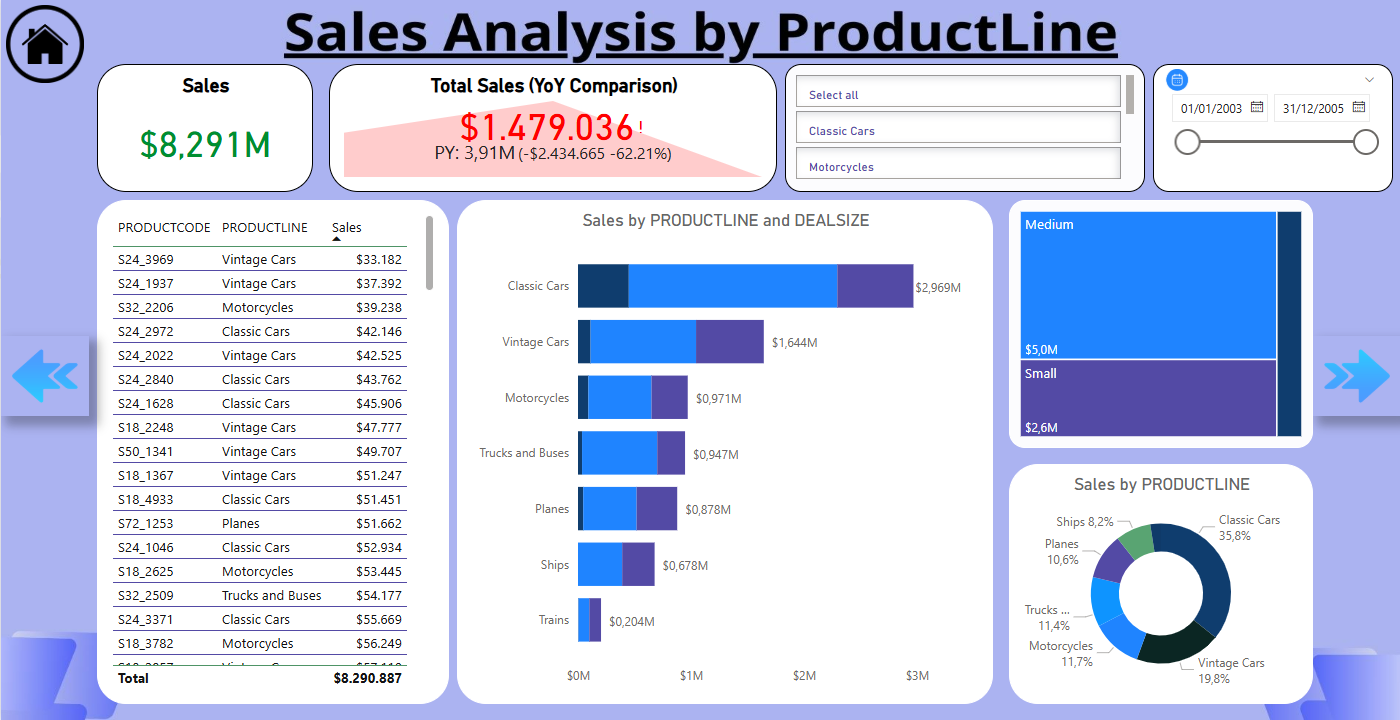

What the dashboard file says about the page in this screenshot:
{"tool":"powerbi","page":{"name":"Sales Analysis by ProductLline","canvas":[1400,720],"ordinal":2},"visuals":[{"type":"barChart","title":"Sales by PRODUCTLINE and DEALSIZE","fields":{"Category":["Dim_Product.PRODUCTLINE"],"Series":["Dim_DealSize.DEALSIZE"],"Y":["Measure.002 $ Total_Ventas"]},"box":[456,200,536,504],"z":0},{"type":"donutChart","title":"Sales by PRODUCTLINE","fields":{"Y":["Measure.002 $ Total_Ventas"],"Category":["Dim_Product.PRODUCTLINE"]},"box":[1008,464,304,240],"z":1000},{"type":"tableEx","fields":{"Values":["Dim_Product.Código de producto","Dim_Product.Línea de producto","Measure.002 $ Total_Ventas"]},"box":[96,200,352,504],"z":2000},{"type":"advancedSlicerVisual","fields":{"Values":["Dim_Product.Línea de producto"]},"box":[784,64,360,128],"z":3000},{"type":"cardVisual","title":"Sales","fields":{"Data":["Measure.002 $ Total_Ventas"]},"box":[96,64,216,128],"z":4000},{"type":"image","box":[1312,336,88,80],"z":5000},{"type":"image","box":[0,336,88,80],"z":6000},{"type":"slicer","fields":{"Values":["Dim_Calendar.Date"]},"box":[1152,64,240,128],"z":7000},{"type":"image","box":[0,0,88,88],"z":8000},{"type":"image","box":[1152,64,48,32],"z":9000},{"type":"kpi","title":"Total Sales (YoY Comparison)","fields":{"Indicator":["Measure.002 $ Total_Sales"],"Goal":["Measure.022 $ Total_Sales_PY"],"TrendLine":["Dim_Calendar.Year"]},"box":[328,64,448,128],"z":10000},{"type":"treemap","title":"Sales by DEALSIZE","fields":{"Group":["Dim_DealSize.DEALSIZE"],"Values":["Measure.002 $ Total_Sales"]},"box":[1008,200,304,248],"z":11000}]}

Visuals, with their boxes in screenshot pixels (x1, y1, x2, y2), scaled from the page's 1400x720 canvas onto the 1400x720 screenshot:
"Sales by PRODUCTLINE and DEALSIZE" barChart: (x1=456, y1=200, x2=992, y2=704)
"Sales by PRODUCTLINE" donutChart: (x1=1008, y1=464, x2=1312, y2=704)
tableEx - Dim_Product.Código de producto x Dim_Product.Línea de producto: (x1=96, y1=200, x2=448, y2=704)
advancedSlicerVisual - Dim_Product.Línea de producto: (x1=784, y1=64, x2=1144, y2=192)
"Sales" cardVisual: (x1=96, y1=64, x2=312, y2=192)
image: (x1=1312, y1=336, x2=1399, y2=416)
image: (x1=0, y1=336, x2=88, y2=416)
slicer - Dim_Calendar.Date: (x1=1152, y1=64, x2=1392, y2=192)
image: (x1=0, y1=0, x2=88, y2=88)
image: (x1=1152, y1=64, x2=1200, y2=96)
"Total Sales (YoY Comparison)" kpi: (x1=328, y1=64, x2=776, y2=192)
"Sales by DEALSIZE" treemap: (x1=1008, y1=200, x2=1312, y2=448)
